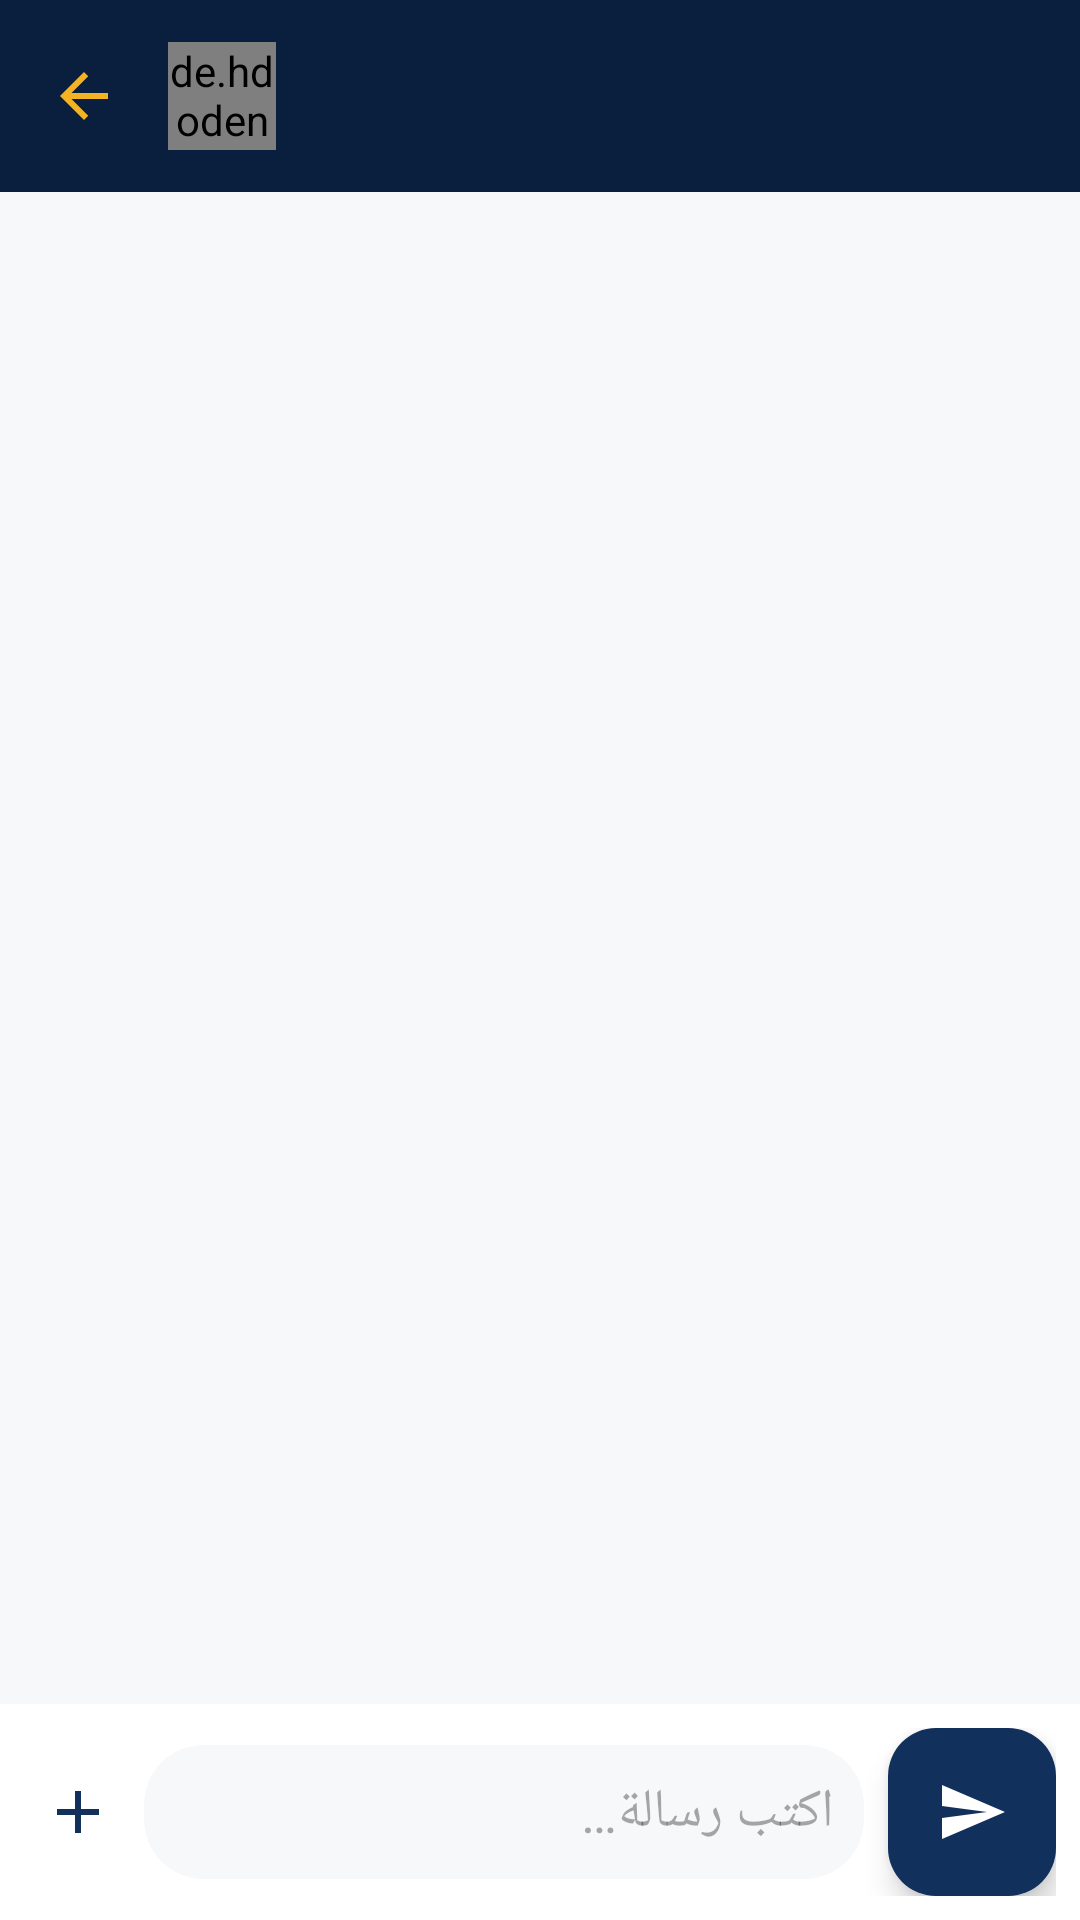

Point at icon controls on the screen. Image size 1080x1920, points as (x,y).
add: (78,1812)
send: (972,1812)
